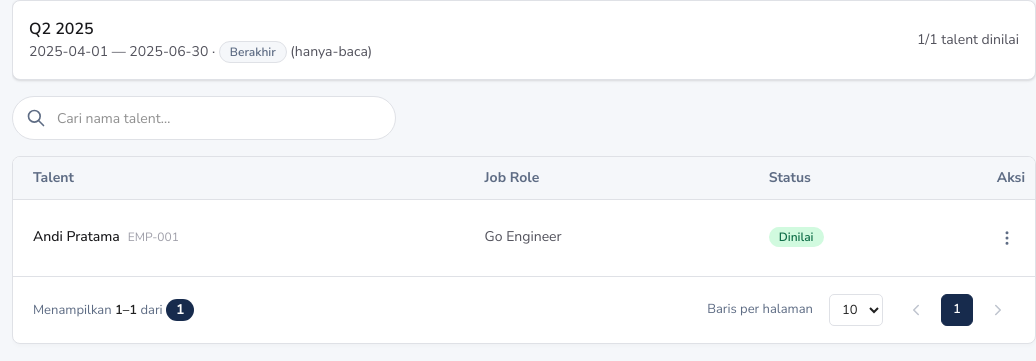
it: EvaluationsPage roster (Apollo, US7) › shows a closed period as read-only with a Lihat action only
The image size is (1036, 361).
Expected: the heading "Q2 2025" is shown, [29,18,94,40]
Click the button named "Aksi Andi Pratama" at (1007, 238), box [989,220,1025,256]
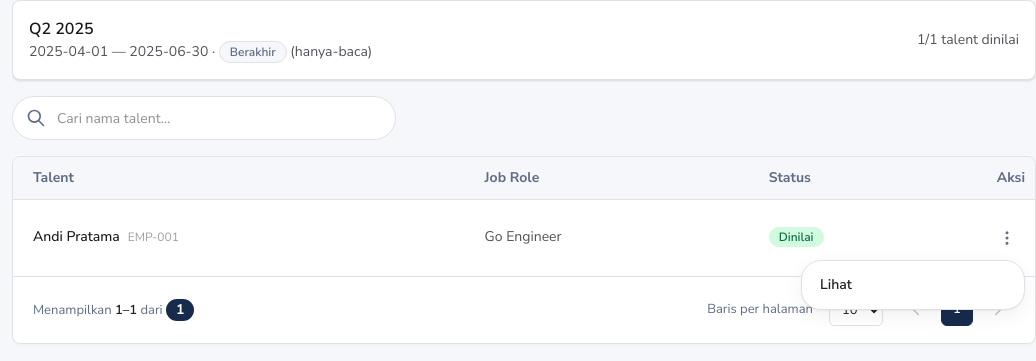
Expected: the button "Lihat" is shown, [808,266,1018,302]
